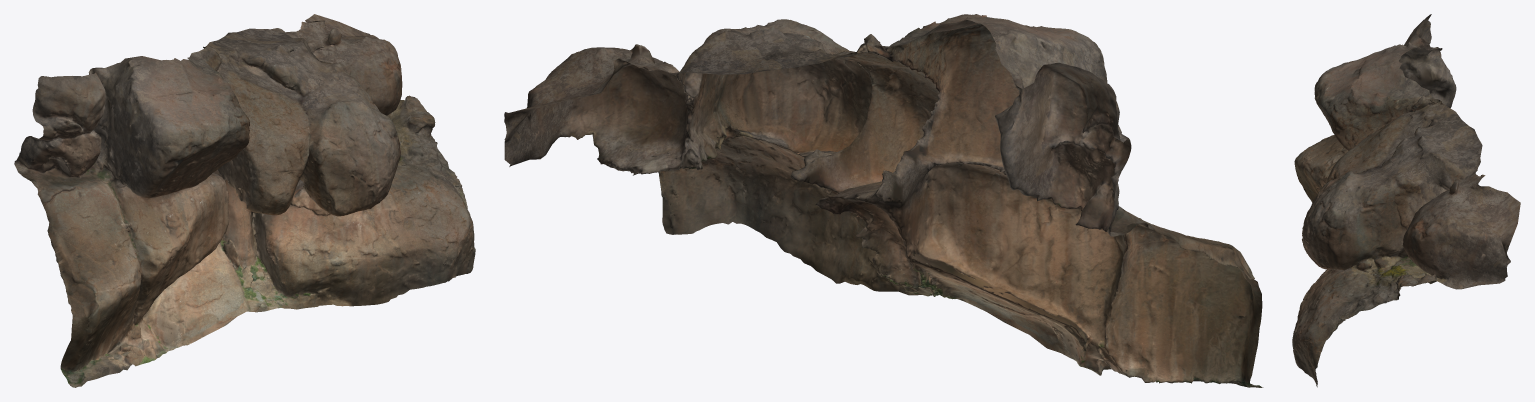
File: namaqualand_cliff_01_4k.gltf
3 renders of one model, left to right at view 1: azimuth 30°, elevation 25°; view 2: azimuth 150°, elevation 25°; view 3: azimuth 270°, elevation 25°, orthographic. The views are drawn at different scales.
Parts seen in each view (by area): view 1: drone_rock_01; view 2: drone_rock_01; view 3: drone_rock_01.
Part boxes in pixels (box(x1,y1,x2,y2)): drone_rock_01: box(14, 14, 475, 387); drone_rock_01: box(504, 14, 1263, 387); drone_rock_01: box(1292, 14, 1520, 387).
Size of the model in its own units: 8.28 by 4.96 by 4.39.
Materials: 1 (1 with a texture image).
